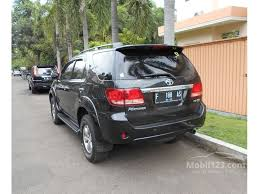plate: (155, 91, 182, 100)
